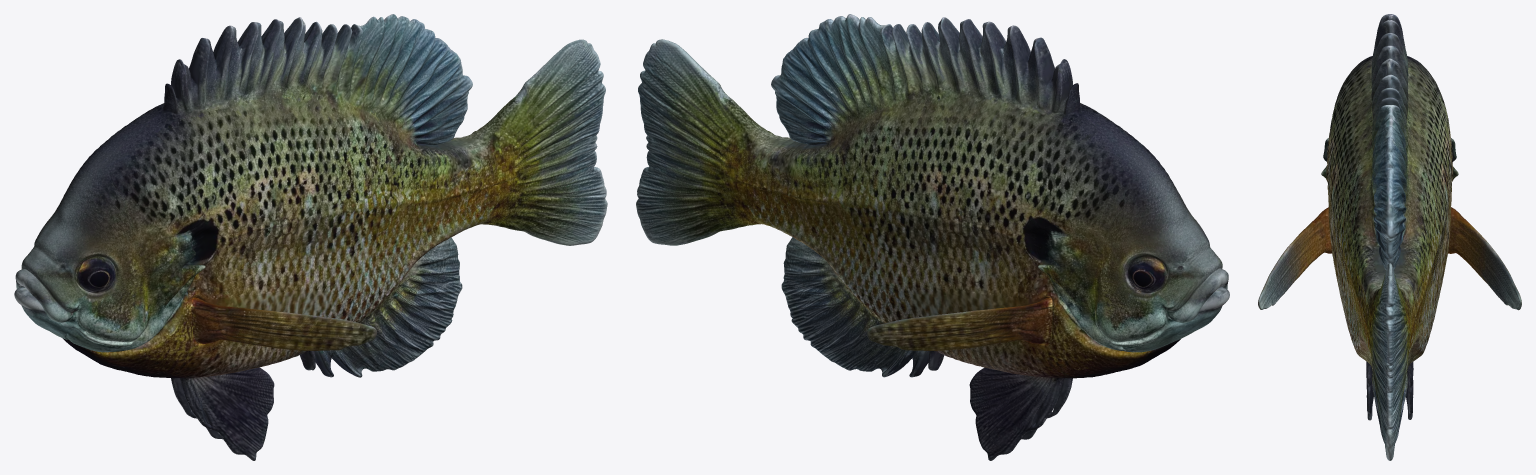
File: fish3.glb
3 views of the same model, side by side, from view 1: azimuth 30°, elevation 25°; view 2: azimuth 150°, elevation 25°; view 3: azimuth 270°, elevation 25° (orthographic). The views are drawn at different scales.
Visible parts, largest first — view 1: tripo_node_ffb4d844-33d0-4609-9c35-1f9d50ffd36a; view 2: tripo_node_ffb4d844-33d0-4609-9c35-1f9d50ffd36a; view 3: tripo_node_ffb4d844-33d0-4609-9c35-1f9d50ffd36a.
Part boxes in pixels (bbox=[...]): tripo_node_ffb4d844-33d0-4609-9c35-1f9d50ffd36a: bbox=[14, 14, 607, 460]; tripo_node_ffb4d844-33d0-4609-9c35-1f9d50ffd36a: bbox=[636, 14, 1229, 460]; tripo_node_ffb4d844-33d0-4609-9c35-1f9d50ffd36a: bbox=[1258, 14, 1521, 460].
Bounding box in the file's own units: 1 × 0.6961 × 0.4216.
1 material, 1 textured.
